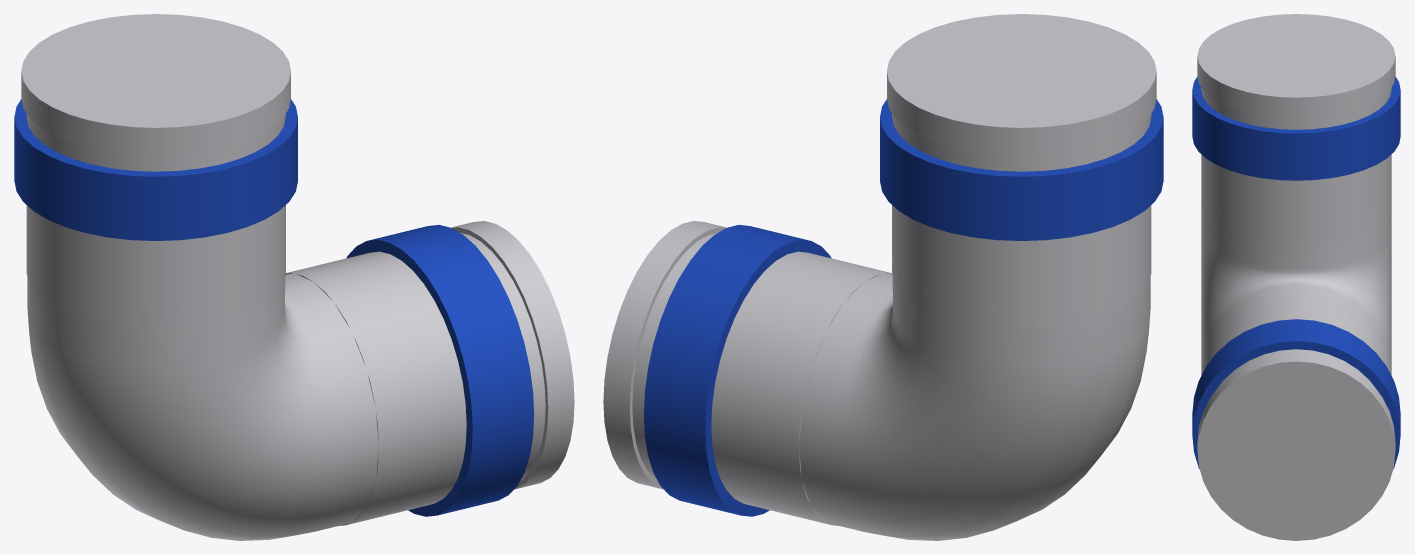
The model's file is fit22_elbow90.glb.
3 views of the same model, side by side, from view 1: azimuth 30°, elevation 25°; view 2: azimuth 150°, elevation 25°; view 3: azimuth 270°, elevation 25° (orthographic). The views are drawn at different scales.
Visible parts, largest first — view 1: тело, раструб 1 тело, раструб 2 тело, раструб 2 кольцо, раструб 1 кольцо, раструб 1 кромка, раструб 2 кромка; view 2: тело, раструб 1 тело, раструб 2 тело, раструб 2 кольцо, раструб 1 кольцо, раструб 1 кромка, раструб 2 кромка; view 3: раструб 2 тело, раструб 1 тело, тело, раструб 1 кромка, раструб 2 кромка, раструб 1 кольцо, раструб 2 кольцо.
Boxes of the visible parts, bbox=[...] form: тело: bbox=[27, 260, 393, 540]; раструб 1 тело: bbox=[26, 16, 285, 327]; раструб 2 тело: bbox=[285, 232, 545, 525]; раструб 2 кольцо: bbox=[346, 225, 534, 516]; раструб 1 кольцо: bbox=[14, 99, 297, 240]; раструб 1 кромка: bbox=[21, 14, 290, 155]; раструб 2 кромка: bbox=[451, 221, 574, 489]; тело: bbox=[784, 260, 1150, 540]; раструб 1 тело: bbox=[892, 16, 1151, 327]; раструб 2 тело: bbox=[632, 232, 892, 525]; раструб 2 кольцо: bbox=[643, 225, 831, 516]; раструб 1 кольцо: bbox=[880, 99, 1163, 240]; раструб 1 кромка: bbox=[887, 14, 1156, 155]; раструб 2 кромка: bbox=[603, 221, 726, 489]; раструб 2 тело: bbox=[1201, 295, 1391, 537]; раструб 1 тело: bbox=[1201, 15, 1391, 244]; тело: bbox=[1201, 203, 1391, 375]; раструб 1 кромка: bbox=[1197, 14, 1395, 117]; раструб 2 кромка: bbox=[1197, 352, 1395, 540]; раструб 1 кольцо: bbox=[1192, 76, 1400, 180]; раструб 2 кольцо: bbox=[1192, 319, 1400, 469].
Size of the model in its own units: 0.054 by 0.054 by 0.028.
